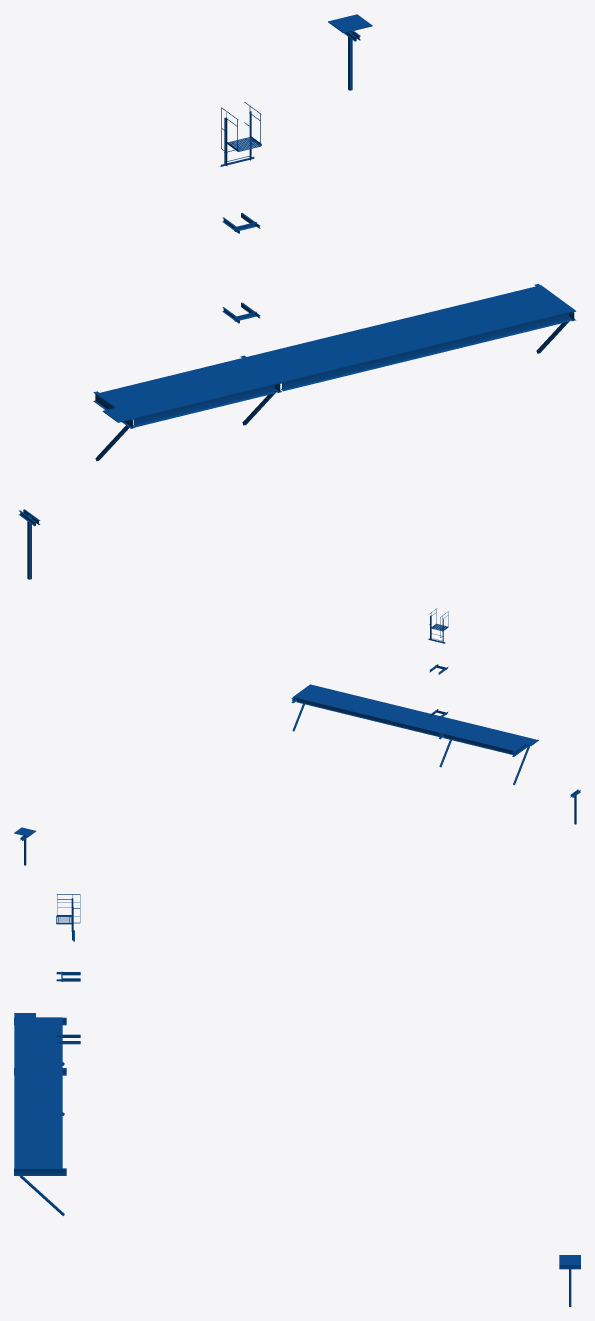
Rendered from GCC-AAV-13220-30.nwd(22).fbx.
3 views of the same model, one above another, from view 1: azimuth 30°, elevation 25°; view 2: azimuth 150°, elevation 25°; view 3: azimuth 270°, elevation 25° (orthographic). The views are drawn at different scales.
Visible parts, largest first — view 1: PANEL 1 of SBFRAMEWORK /13220-ST-001/CS/KM2/PLT/+5.600, Группа фасетов (×2); view 2: PANEL 1 of SBFRAMEWORK /13220-ST-001/CS/KM2/PLT/+5.600, GENSEC 7 of SBFRAMEWORK /13220-ST-001/CS/KM2/B/+5.300; view 3: PANEL 1 of SBFRAMEWORK /13220-ST-001/CS/KM2/PLT/+5.600.
Part boxes in pixels (<box>): PANEL 1 of SBFRAMEWORK /13220-ST-001/CS/KM2/PLT/+5.600: <box>96,285,575,422</box>; Группа фасетов (×2): <box>133,313,569,427</box>; PANEL 1 of SBFRAMEWORK /13220-ST-001/CS/KM2/PLT/+5.600: <box>293,684,538,751</box>; GENSEC 7 of SBFRAMEWORK /13220-ST-001/CS/KM2/B/+5.300: <box>296,698,439,736</box>; PANEL 1 of SBFRAMEWORK /13220-ST-001/CS/KM2/PLT/+5.600: <box>14,1013,62,1169</box>.
Size of the model in its own units: 1171 by 593 by 1129.
